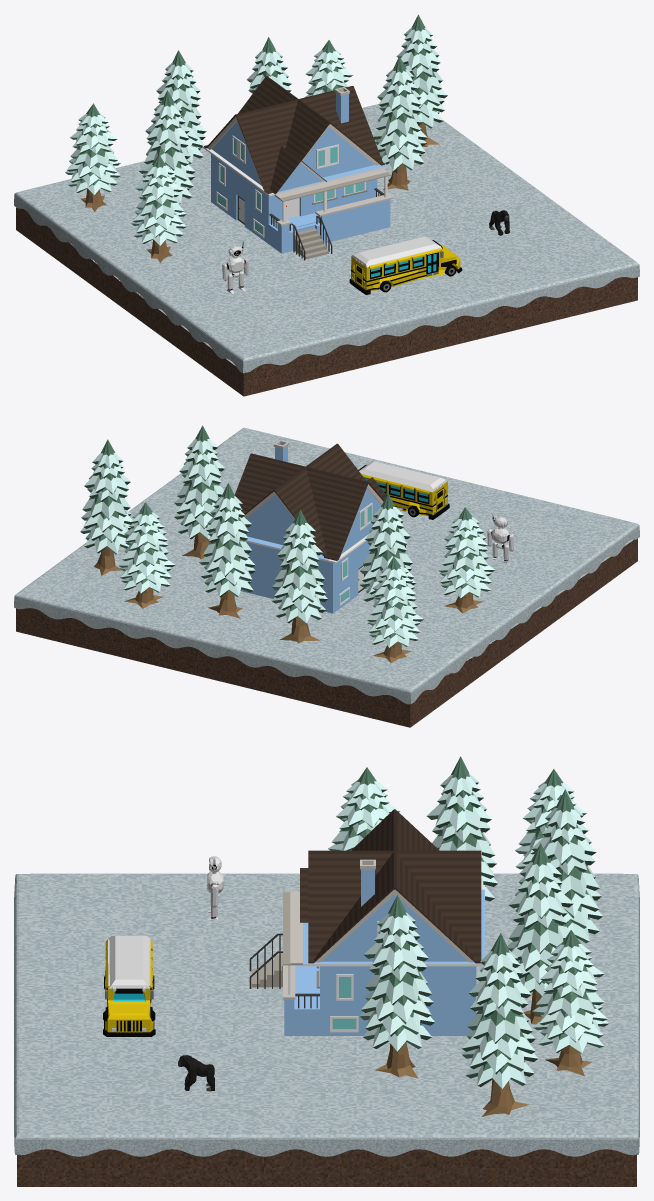
The picture shows the model from 3 angles, top to bottom: view 1: azimuth 30°, elevation 25°; view 2: azimuth 150°, elevation 25°; view 3: azimuth 270°, elevation 25°; orthographic projection. The views are drawn at different scales.
Parts seen in each view (by area): view 1: Cube.003, Cube.1594, VEHICLES_SCHOOL_BUS, OBJRANDOM_PLATZEEBOT; view 2: Cube.003, Cube.1594, VEHICLES_SCHOOL_BUS, OBJRANDOM_PLATZEEBOT; view 3: Cube.003, Cube.1594, VEHICLES_SCHOOL_BUS, ANIMAL_GORILA, OBJRANDOM_PLATZEEBOT.
Boxes of the visible parts, x1,y1,x2,y2 form: Cube.003: (14, 14, 639, 396); Cube.1594: (202, 76, 393, 260); VEHICLES_SCHOOL_BUS: (349, 236, 462, 294); OBJRANDOM_PLATZEEBOT: (222, 241, 248, 293); Cube.003: (14, 425, 639, 727); Cube.1594: (235, 440, 405, 613); VEHICLES_SCHOOL_BUS: (358, 461, 449, 519); OBJRANDOM_PLATZEEBOT: (487, 512, 513, 563); Cube.003: (14, 756, 639, 1186); Cube.1594: (249, 809, 484, 1035); VEHICLES_SCHOOL_BUS: (103, 936, 155, 1036); ANIMAL_GORILA: (178, 1055, 214, 1091); OBJRANDOM_PLATZEEBOT: (205, 856, 224, 920).
Bounding box in the file's own units: 4040 × 1670 × 4040.
36 materials, 3 textured.
